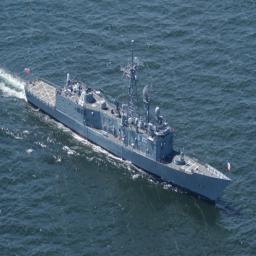Fragata: (25, 41, 232, 207)
